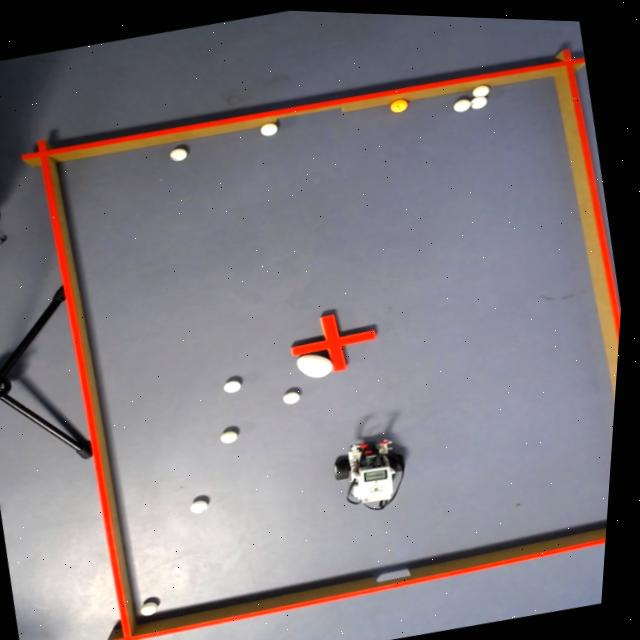boundaries: (19, 41, 624, 640), (47, 72, 619, 623)
cross: (294, 310, 380, 370)
egg: (298, 347, 340, 379)
large_goal: (272, 92, 349, 123)
orange_ball: (388, 94, 410, 111)
robot: (331, 429, 421, 515)
small_goal: (378, 561, 426, 589)
white_ball: (222, 426, 246, 443), (194, 496, 216, 514), (225, 375, 247, 393), (145, 598, 167, 616), (284, 387, 307, 404), (258, 119, 280, 135), (468, 90, 490, 106), (168, 145, 189, 161), (451, 93, 472, 109), (471, 80, 491, 94)
